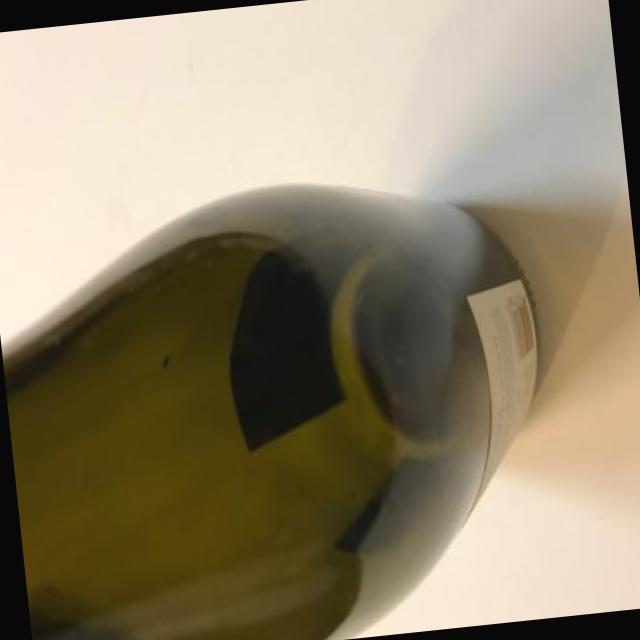chai_thuy_tinh: (1, 186, 524, 640)
